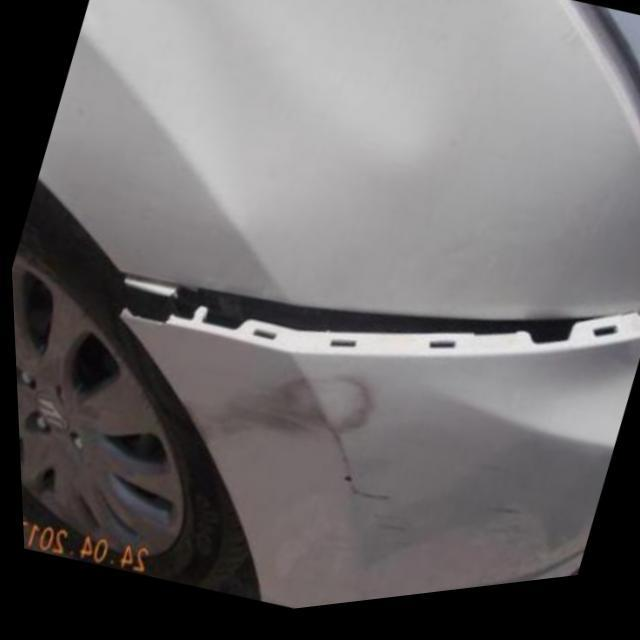dent: (179, 380, 366, 451)
dislocated part: (112, 270, 640, 369)
